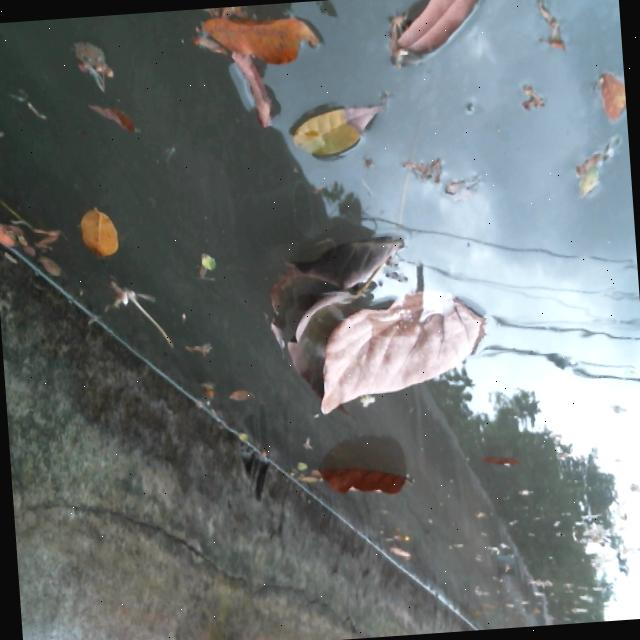Big-leaf: (304, 280, 494, 412), (263, 228, 414, 379), (311, 453, 419, 507)
Small-leaf: (190, 0, 313, 70), (372, 0, 498, 55), (286, 100, 373, 161), (72, 194, 121, 262), (230, 53, 272, 122), (81, 92, 137, 143), (580, 70, 627, 121), (477, 435, 518, 469), (214, 382, 257, 413), (0, 192, 21, 252), (193, 243, 218, 278), (385, 543, 414, 568), (285, 452, 309, 468), (232, 423, 246, 439)
